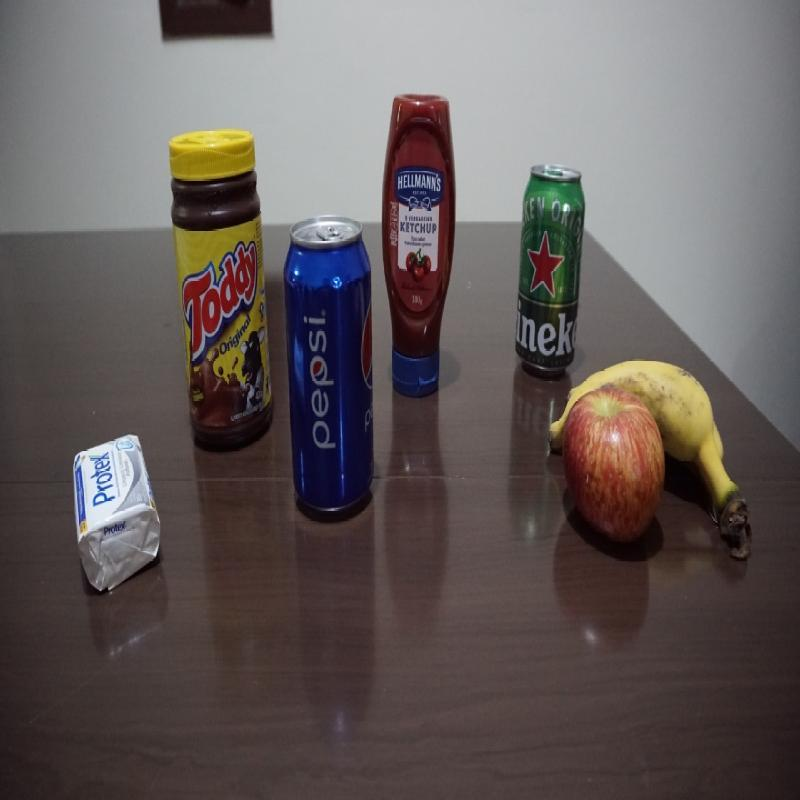Apple: (562, 384, 669, 552)
Banana: (666, 358, 754, 562)
Beer can: (515, 158, 588, 390)
Chocolate Powder: (167, 126, 276, 452)
Ketchup: (382, 90, 458, 404)
Soap: (70, 433, 166, 598)
Soda can: (282, 213, 382, 523)
